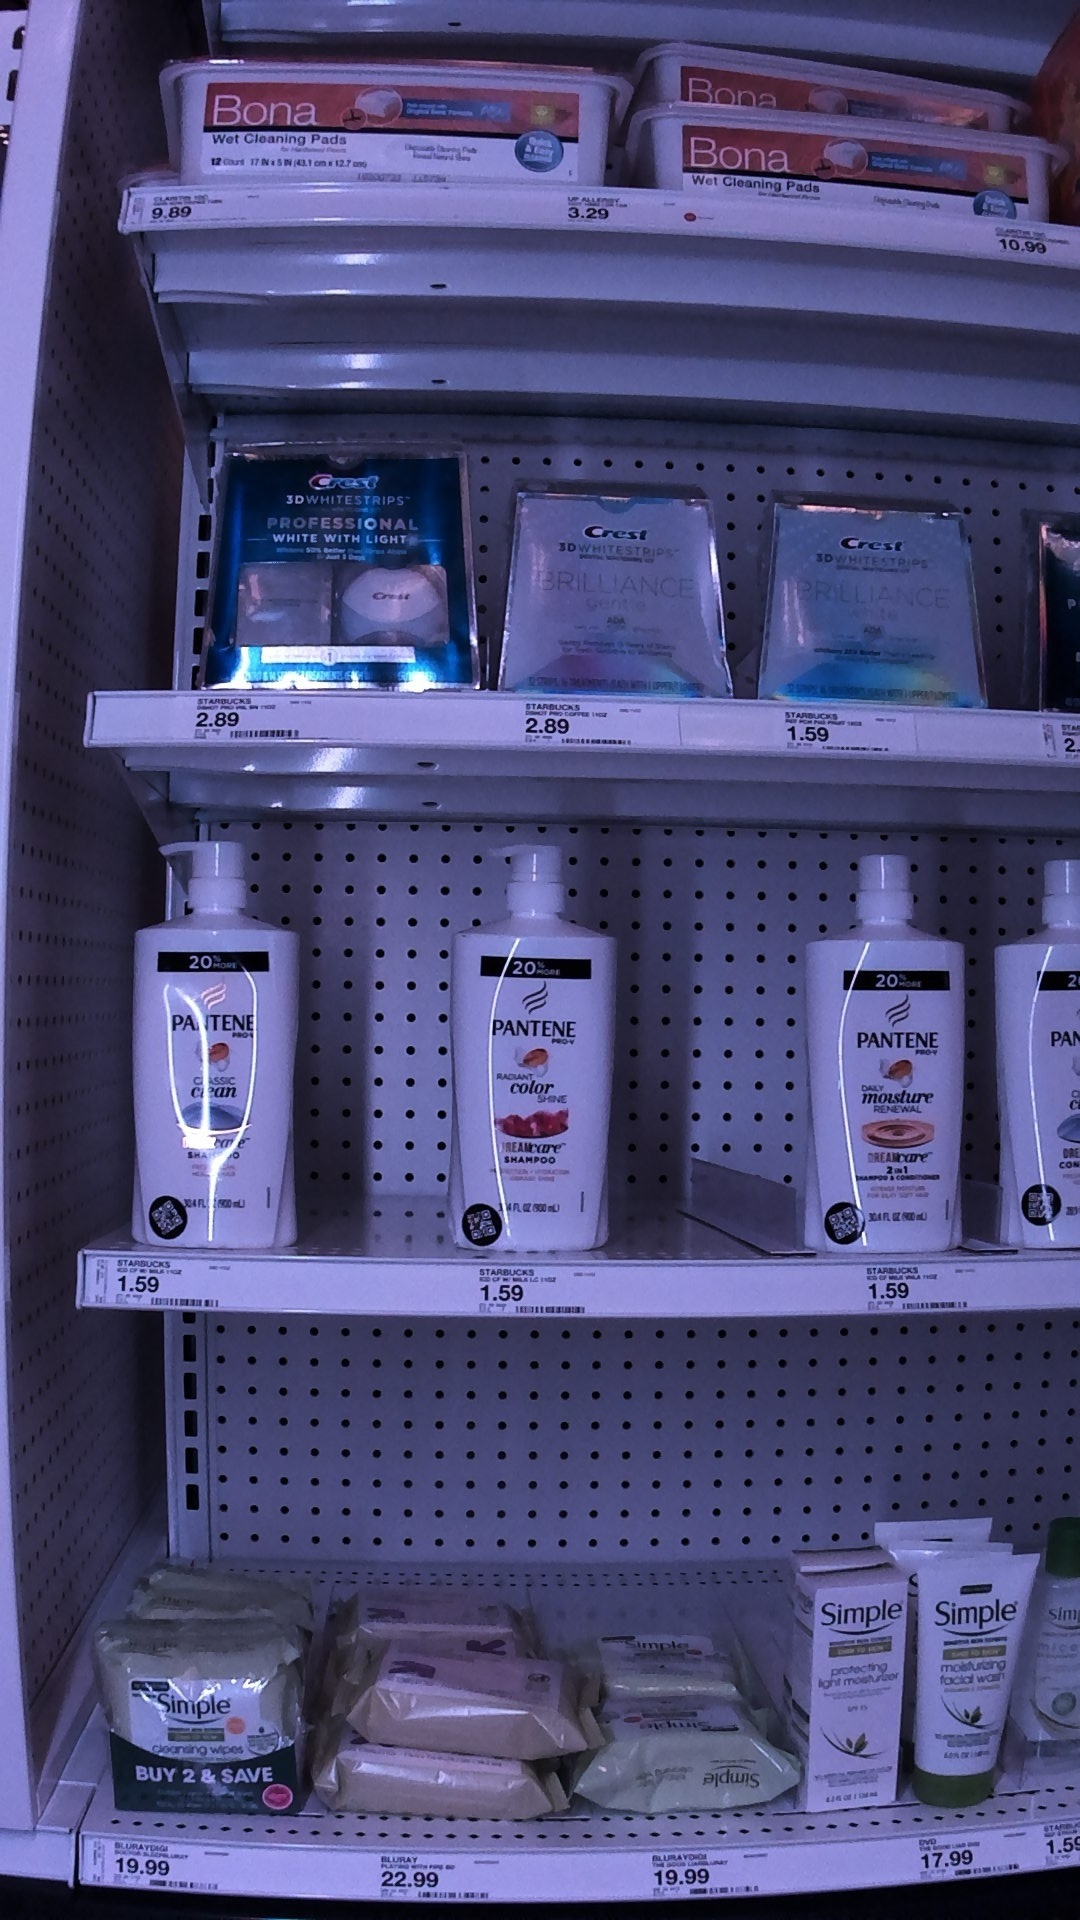ptag: (75, 1242, 239, 1320), (516, 686, 684, 757), (179, 682, 335, 753), (778, 695, 920, 764), (477, 1257, 604, 1327), (642, 1840, 769, 1909), (98, 1829, 222, 1900), (371, 1840, 498, 1904), (862, 1251, 980, 1317), (120, 179, 258, 233), (920, 1826, 1025, 1891), (978, 215, 1080, 272), (553, 173, 644, 235)
